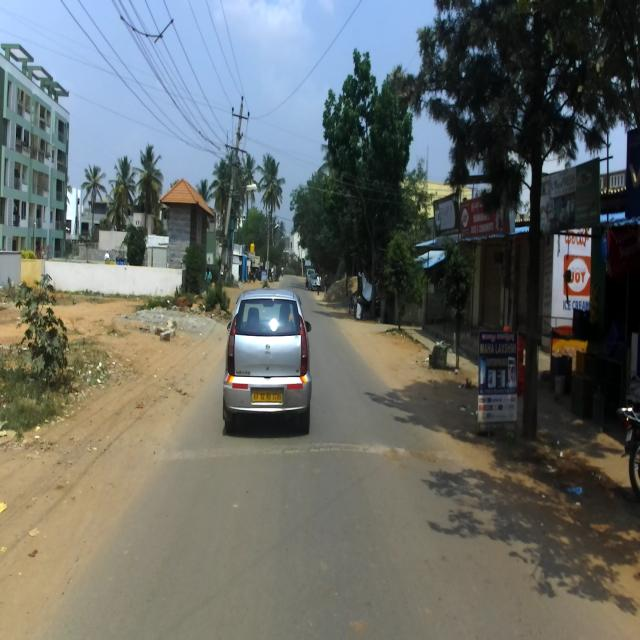car ahead at: (225, 281, 316, 439)
plant ahead at: (10, 271, 75, 414)
tree ahead at: (516, 131, 553, 459)
